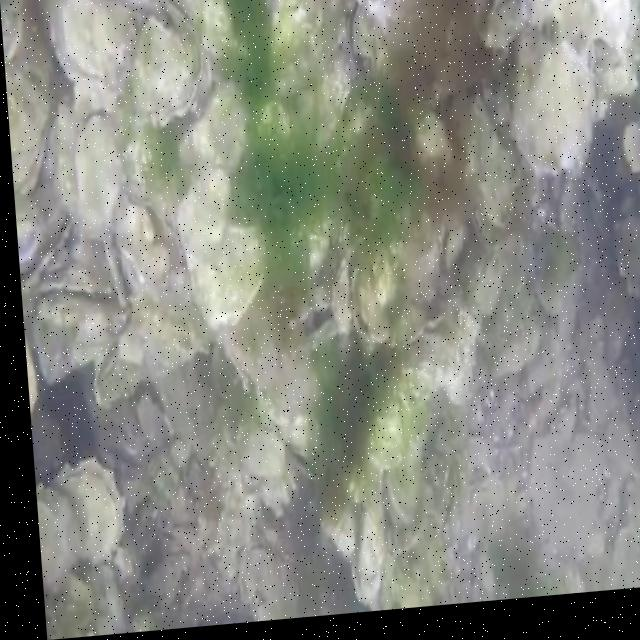Oyster-Closed: (5, 2, 53, 197), (52, 0, 134, 95), (267, 0, 344, 101), (136, 18, 204, 125), (384, 396, 430, 517), (521, 0, 640, 46), (348, 0, 417, 68), (353, 486, 385, 606), (466, 247, 506, 316), (155, 0, 207, 38), (332, 258, 351, 333)
Oyster-Indeterminate: (512, 29, 593, 174), (101, 300, 210, 402), (195, 226, 268, 332), (182, 88, 248, 186), (75, 112, 126, 238), (176, 162, 232, 268), (364, 361, 411, 469), (36, 485, 83, 590), (539, 233, 584, 319), (317, 50, 351, 148), (491, 319, 539, 379), (240, 424, 285, 477)
Oyster-Open: (34, 264, 115, 384), (50, 460, 127, 568), (112, 198, 181, 295), (290, 285, 338, 359), (352, 259, 389, 351), (473, 177, 513, 250), (438, 206, 469, 274), (285, 438, 328, 484)
